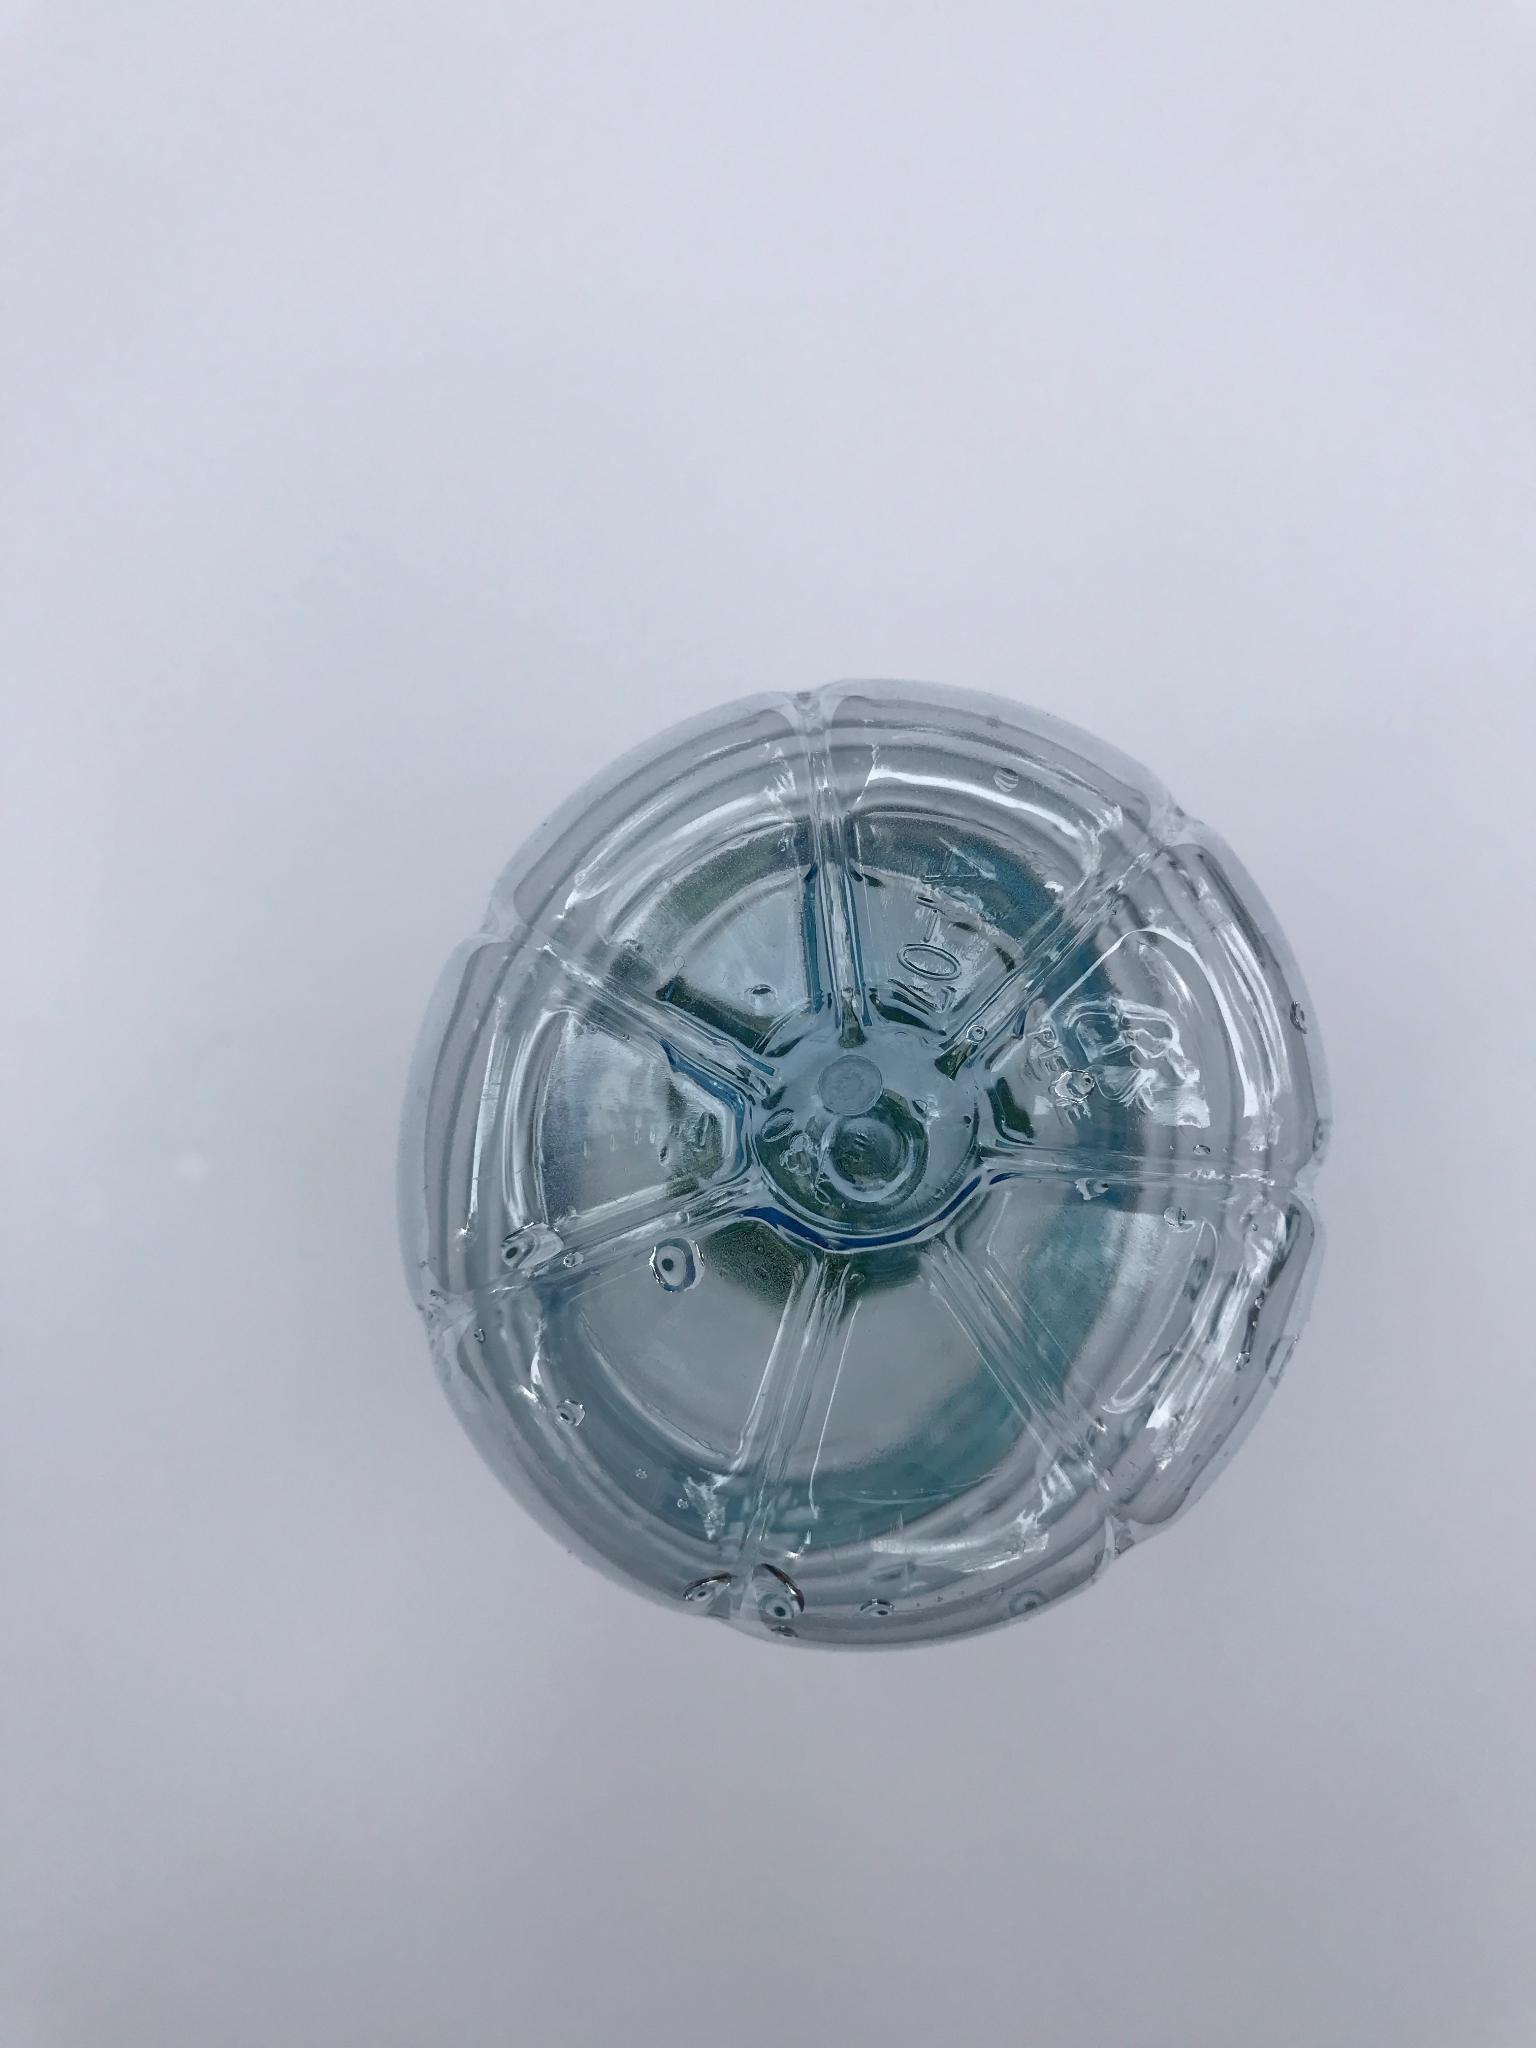Plastic: (408, 666, 1354, 1680)
